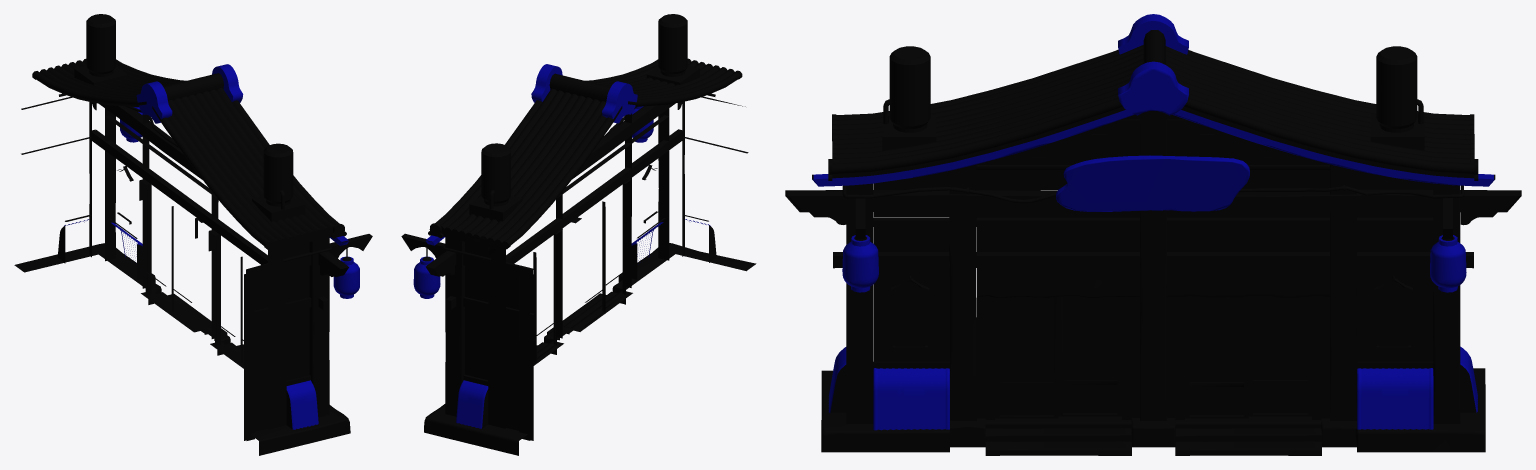
Rendered from SM_ENV_LKNVLD_Hatago_Front_Lod1.gltf.
3 views of the same model, side by side, from view 1: azimuth 30°, elevation 25°; view 2: azimuth 150°, elevation 25°; view 3: azimuth 270°, elevation 25° (orthographic). The views are drawn at different scales.
Visible parts, largest first — view 1: SM_ENV_LKNVLD_Hatago_Front_Lod1; view 2: SM_ENV_LKNVLD_Hatago_Front_Lod1; view 3: SM_ENV_LKNVLD_Hatago_Front_Lod1.
Boxes of the visible parts, x1,y1,x2,y2 form: SM_ENV_LKNVLD_Hatago_Front_Lod1: (14,14,372,455); SM_ENV_LKNVLD_Hatago_Front_Lod1: (401,14,756,455); SM_ENV_LKNVLD_Hatago_Front_Lod1: (785,14,1521,455).
Size of the model in its own units: 4.7 by 9.42 by 16.34.
